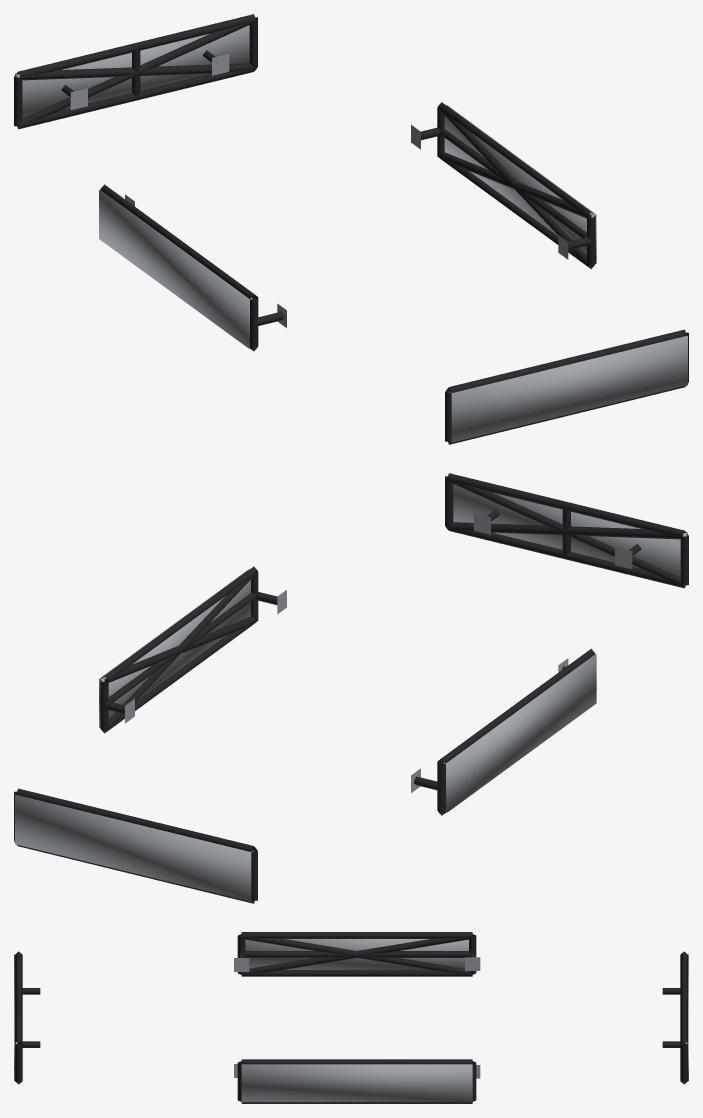
Rendered from sanga_ravina_protecao.glb.
3 views of the same model, one above another, from view 1: azimuth 30°, elevation 25°; view 2: azimuth 150°, elevation 25°; view 3: azimuth 270°, elevation 25° (orthographic). The views are drawn at different scales.
Parts seen in each view (by area): view 1: Protection_front_Level3_Details, Protection_left_Level3_Details, Protection_rear_Level1_Details, Protection_rear_Level3_Details, Protection_right_Level1_Details, Protection_rear_Level2_Details, Protection_right_Level2_Details, Protection_right_Level3_Details, Protection_front_Level1_Details, Protection_left_Level1_Details; view 2: Protection_rear_Level3_Details, Protection_left_Level3_Details, Protection_front_Level1_Details, Protection_front_Level3_Details, Protection_right_Level1_Details, Protection_front_Level2_Details, Protection_right_Level2_Details, Protection_right_Level3_Details, Protection_rear_Level1_Details, Protection_left_Level1_Details; view 3: Protection_right_Level3_Details, Protection_left_Level2_Details, Protection_left_Level1_Details, Protection_left_Level3_Details, Protection_right_Level1_Details, Protection_rear_Level1_Details, Protection_front_Level1_Details.
Boxes of the visible parts, x1,y1,x2,y2 form: Protection_front_Level3_Details: [450, 336, 687, 442]; Protection_left_Level3_Details: [99, 190, 252, 348]; Protection_rear_Level1_Details: [14, 14, 257, 129]; Protection_rear_Level3_Details: [15, 25, 249, 118]; Protection_right_Level1_Details: [411, 102, 595, 269]; Protection_rear_Level2_Details: [16, 20, 255, 128]; Protection_right_Level2_Details: [438, 108, 594, 268]; Protection_right_Level3_Details: [444, 105, 596, 263]; Protection_front_Level1_Details: [445, 329, 688, 444]; Protection_left_Level1_Details: [100, 184, 286, 351]; Protection_rear_Level3_Details: [15, 795, 252, 901]; Protection_left_Level3_Details: [443, 654, 596, 812]; Protection_front_Level1_Details: [445, 473, 688, 588]; Protection_front_Level3_Details: [453, 484, 687, 577]; Protection_right_Level1_Details: [100, 566, 286, 733]; Protection_front_Level2_Details: [447, 479, 686, 587]; Protection_right_Level2_Details: [101, 572, 257, 732]; Protection_right_Level3_Details: [99, 569, 250, 727]; Protection_rear_Level1_Details: [14, 788, 257, 903]; Protection_left_Level1_Details: [411, 648, 595, 815]; Protection_right_Level3_Details: [241, 1064, 472, 1102]; Protection_left_Level2_Details: [241, 934, 472, 974]; Protection_left_Level1_Details: [234, 932, 480, 976]; Protection_left_Level3_Details: [245, 939, 468, 969]; Protection_right_Level1_Details: [234, 1059, 480, 1103]; Protection_rear_Level1_Details: [662, 951, 687, 1084]; Protection_front_Level1_Details: [15, 951, 40, 1084].
Size of the model in its own units: 2.23 by 0.354 by 4.85.
Materials: 1 (1 with a texture image).
